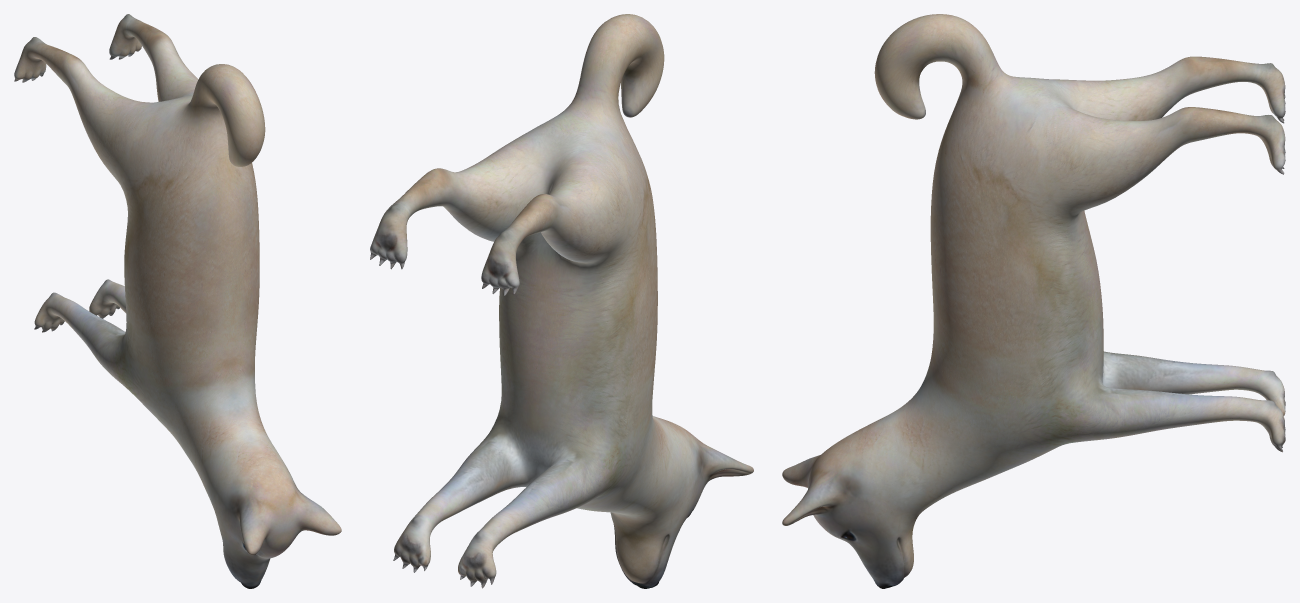
The model's file is 13466_Canaan_Dog_v1_L3.obj.
The picture shows the model from 3 angles, left to right: view 1: azimuth 30°, elevation 25°; view 2: azimuth 150°, elevation 25°; view 3: azimuth 270°, elevation 25°; orthographic projection. The views are drawn at different scales.
Parts seen in each view (by area): view 1: Canaan_Dog; view 2: Canaan_Dog; view 3: Canaan_Dog.
Boxes of the visible parts, box(x1,y1,x2,y2) form: Canaan_Dog: box(14, 14, 341, 588); Canaan_Dog: box(370, 14, 753, 588); Canaan_Dog: box(782, 14, 1285, 588).
Size of the model in its own units: 11.51 by 43.75 by 34.92.
Materials: 1 (1 with a texture image).
